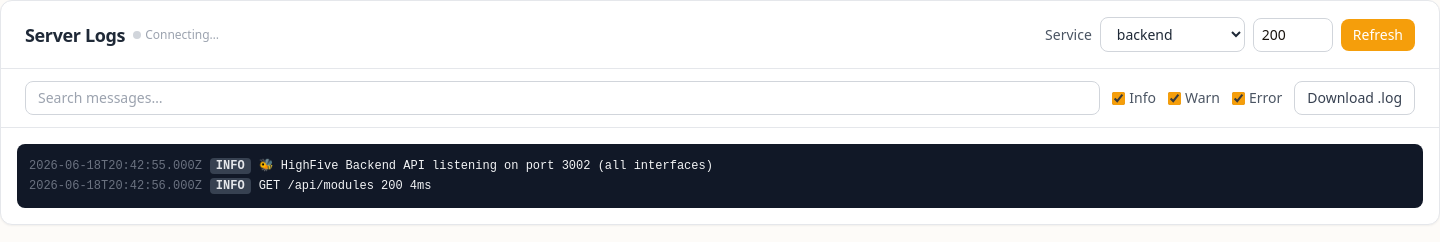
Scenario: ServerLogsPanel (#171/#178) › filters entries by the search query
The image size is (1440, 242).
expect the text "GET /api/modules 200 4ms" is shown: met, box x1=259 y1=178 x2=431 y2=194
expect the number of elements with test id "server-log-entry" is 2: met, box x1=29 y1=158 x2=713 y2=174; x1=29 y1=178 x2=432 y2=194
Type "modules" into the search field with test id "logs-search". click: [563, 98]
box: x1=25 y1=81 x2=1100 y2=115
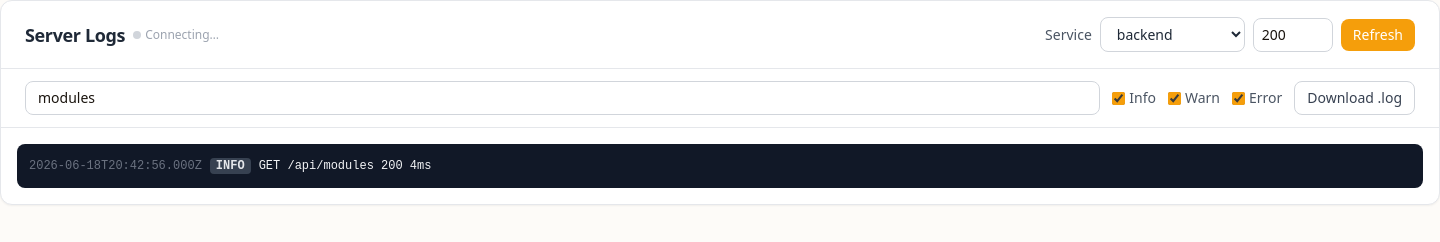
expect the element with test id "server-log-entry" shows "GET /api/modules 200 4ms": met, box x1=259 y1=159 x2=431 y2=173
expect the number of elements with test id "server-log-entry" is 1: met, box x1=29 y1=158 x2=432 y2=174
